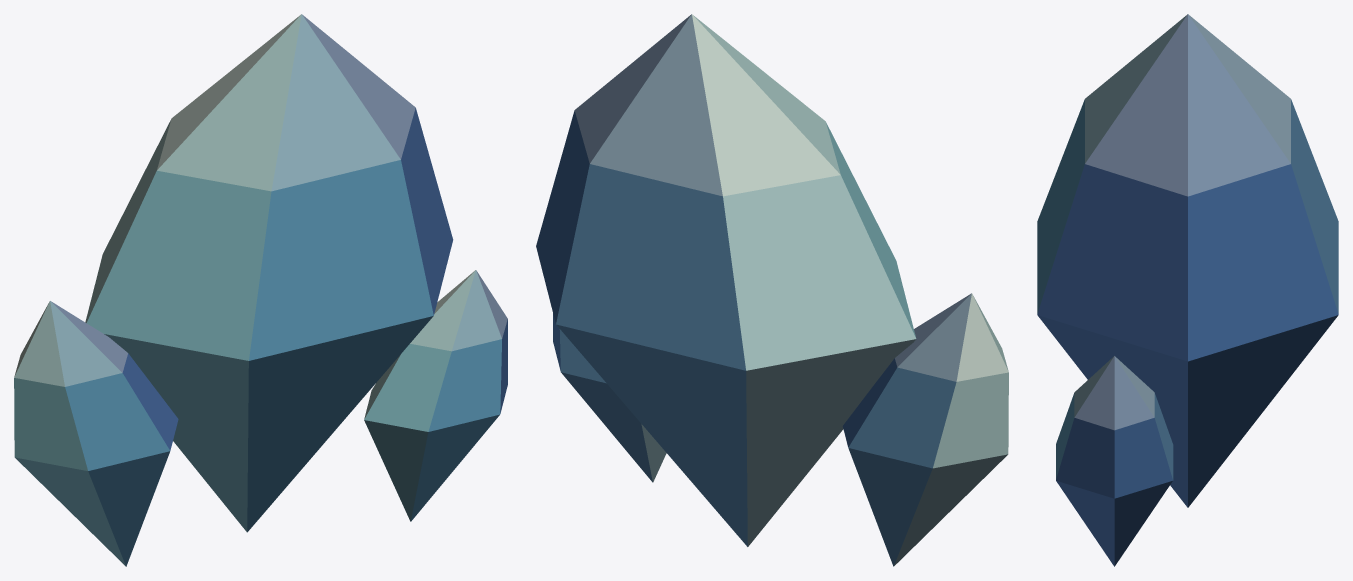
Rendered from crown_crystal.glb.
3 renders of one model, left to right at view 1: azimuth 30°, elevation 25°; view 2: azimuth 150°, elevation 25°; view 3: azimuth 270°, elevation 25°, orthographic. The views are drawn at different scales.
Visible parts, largest first — view 1: crown_crystal; view 2: crown_crystal; view 3: crown_crystal.
Boxes of the visible parts, x1,y1,x2,y2 form: crown_crystal: (14,14,507,566); crown_crystal: (536,14,1008,566); crown_crystal: (1037,14,1338,566).
Size of the model in its own units: 0.912 by 0.94 by 0.4926.
